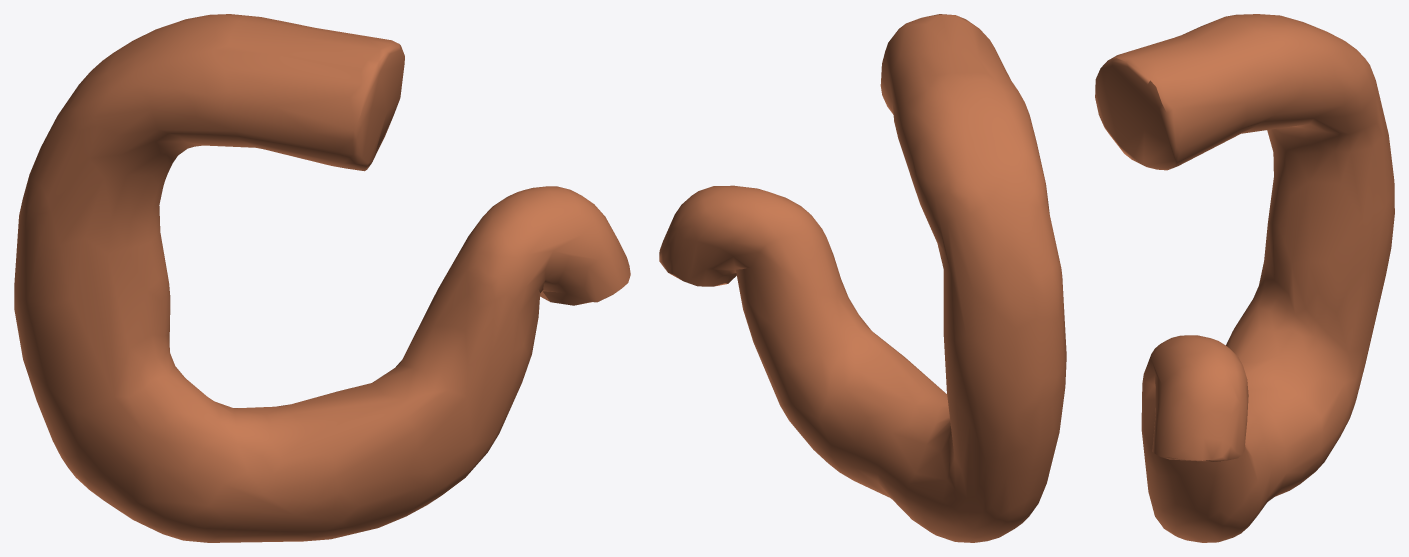
File: duodenum.glb
3 renders of one model, left to right at view 1: azimuth 30°, elevation 25°; view 2: azimuth 150°, elevation 25°; view 3: azimuth 270°, elevation 25°, orthographic. The views are drawn at different scales.
Parts seen in each view (by area): view 1: duodenum; view 2: duodenum; view 3: duodenum.
Part boxes in pixels (x1,y1,x2,y2): duodenum: (14, 14, 630, 542); duodenum: (659, 14, 1066, 542); duodenum: (1095, 14, 1394, 542).
Size of the model in its own units: 0.098 by 0.0915 by 0.053.
